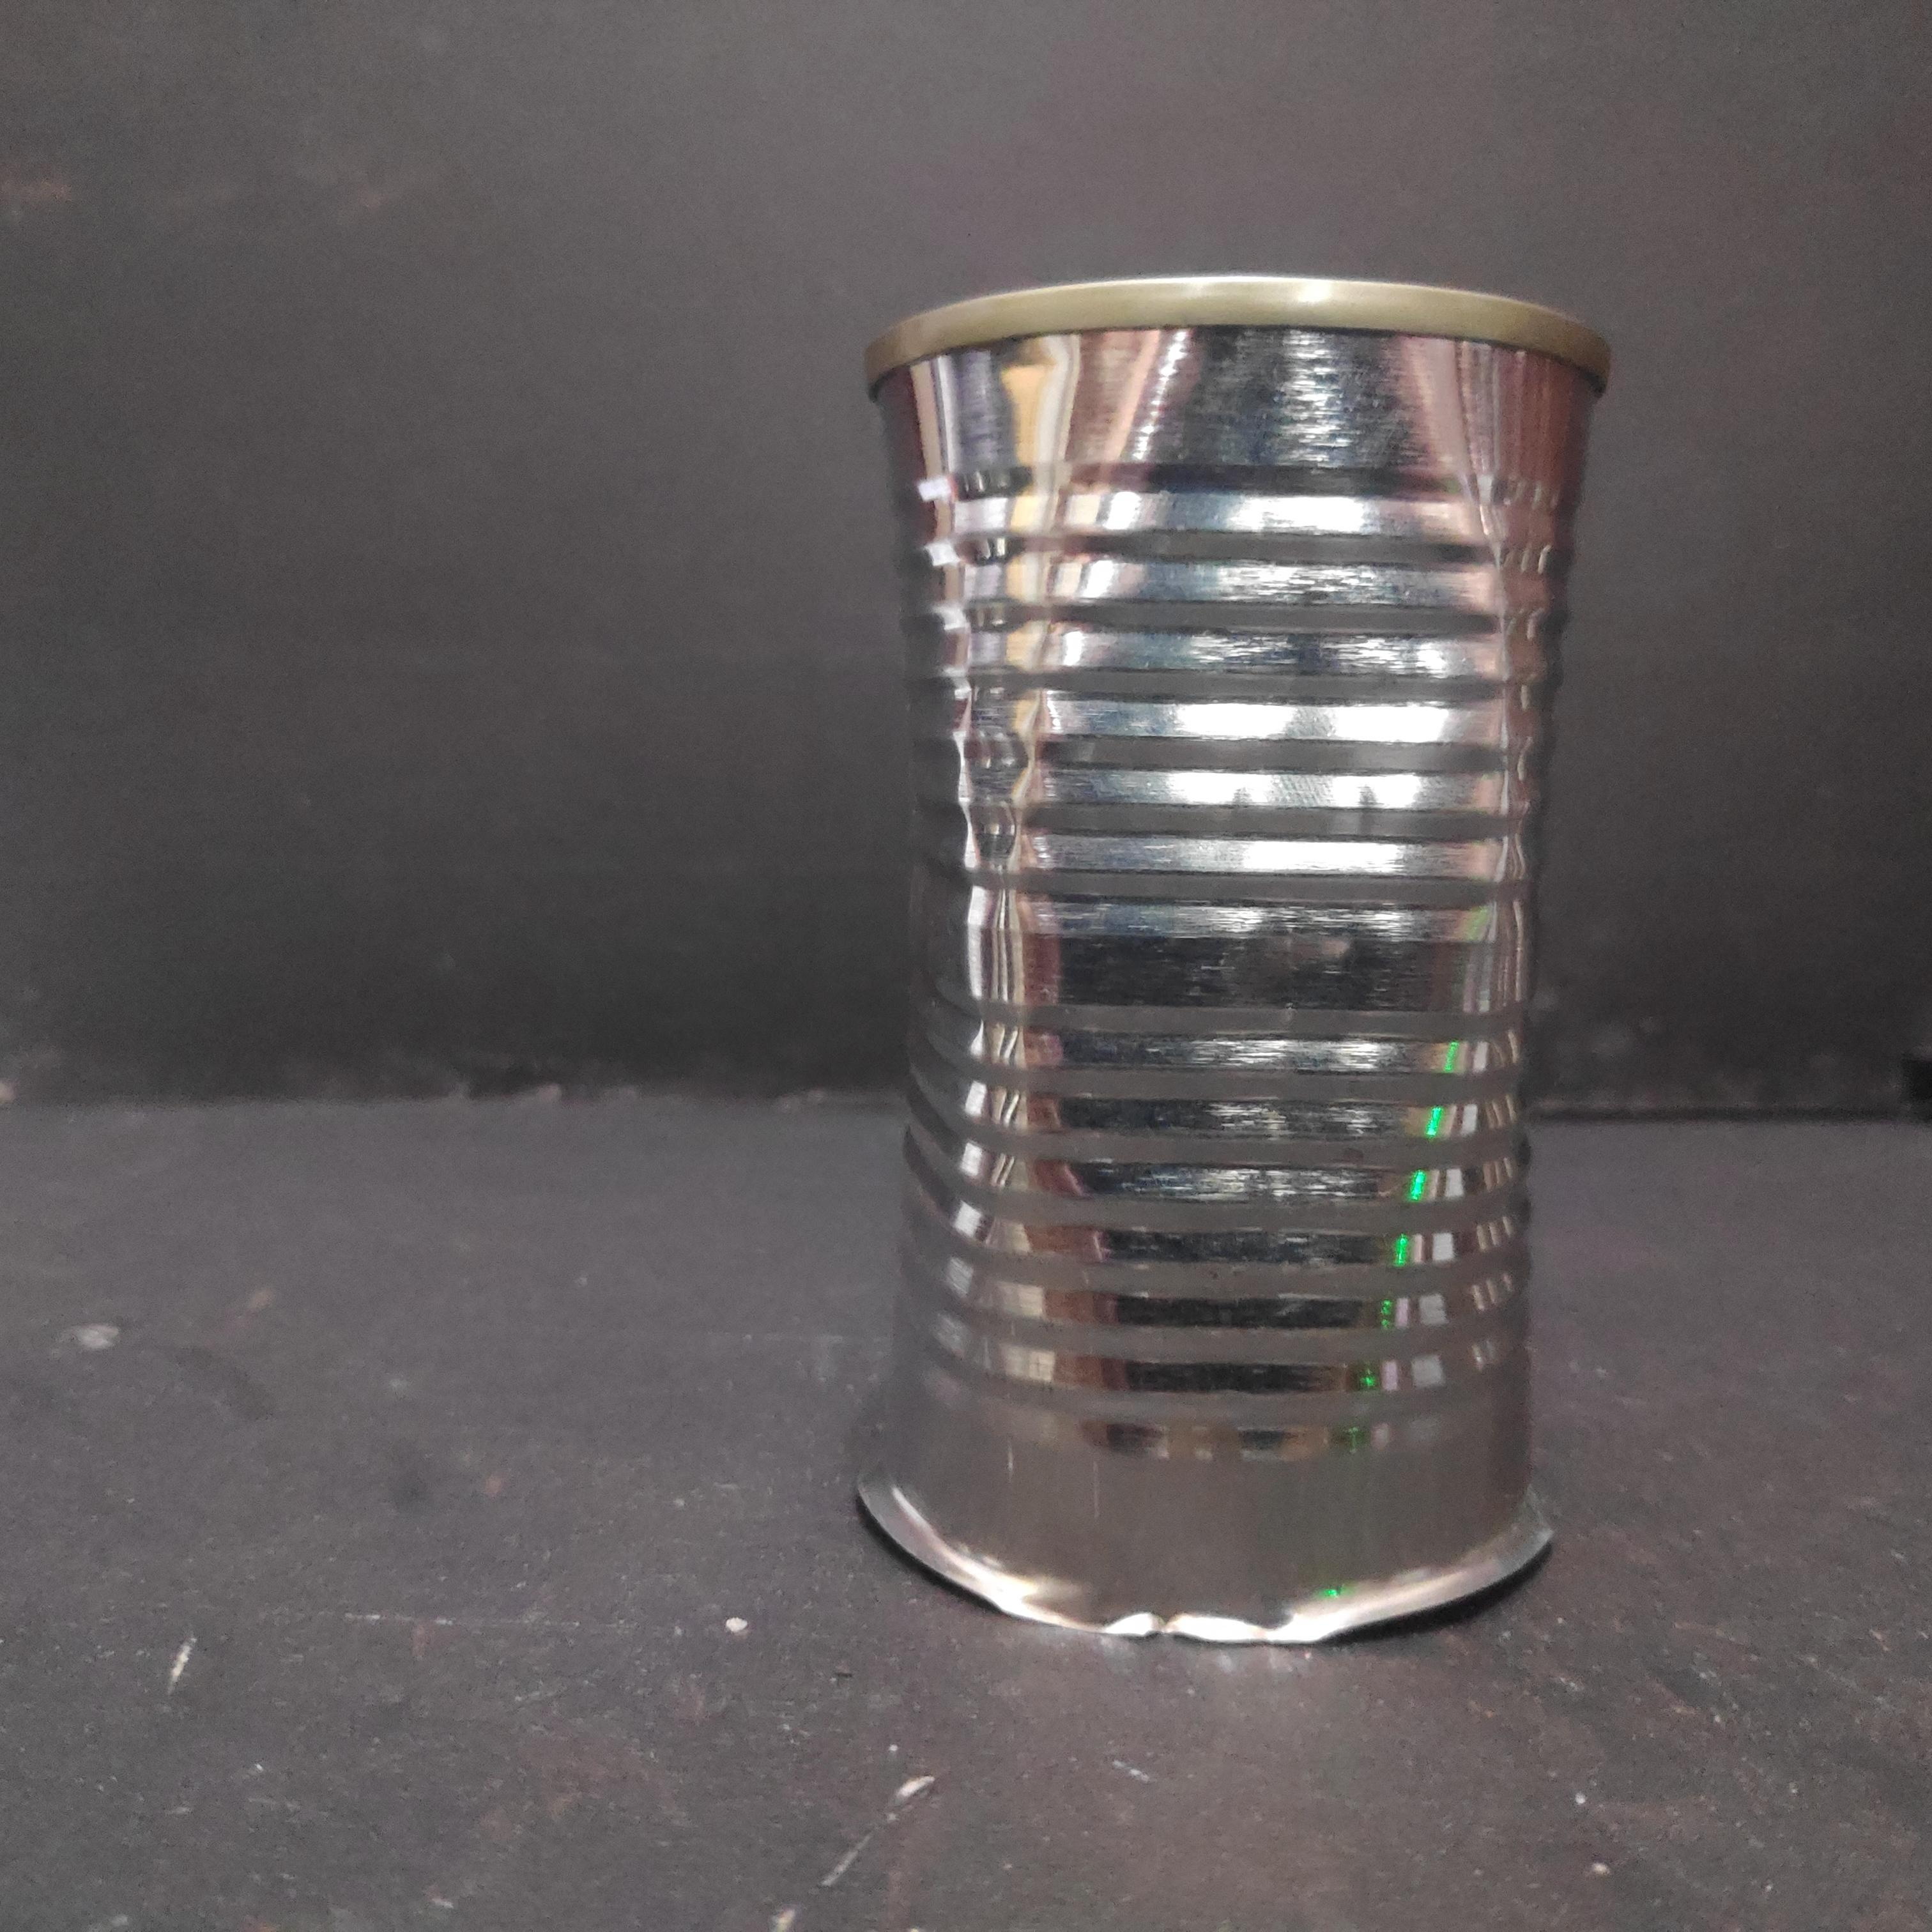Minor Defect: (844, 265, 1621, 1661)
